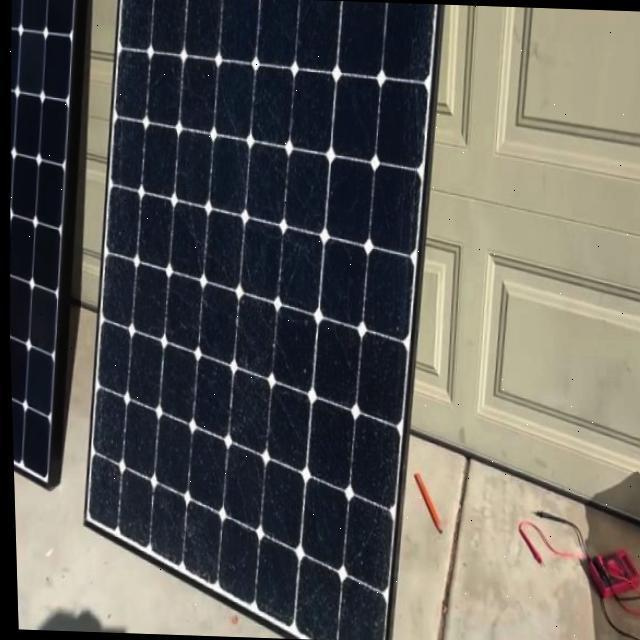Normal Solar Panel: (0, 0, 99, 488)
